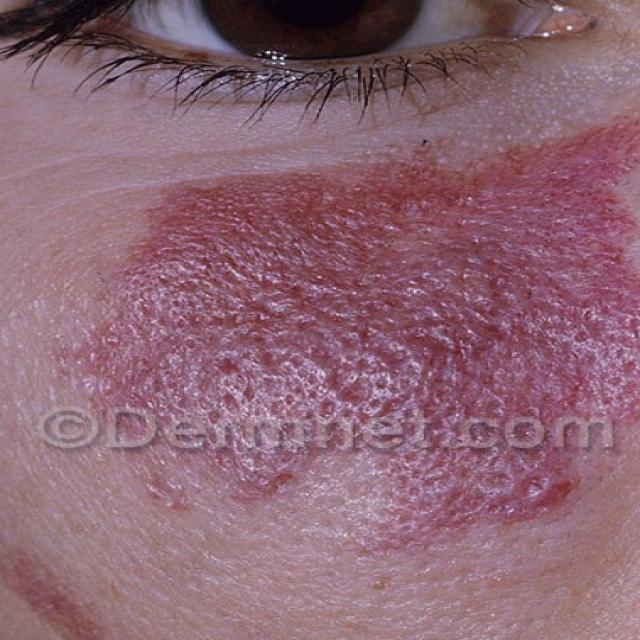Vascular Tumors: (67, 140, 640, 569)
